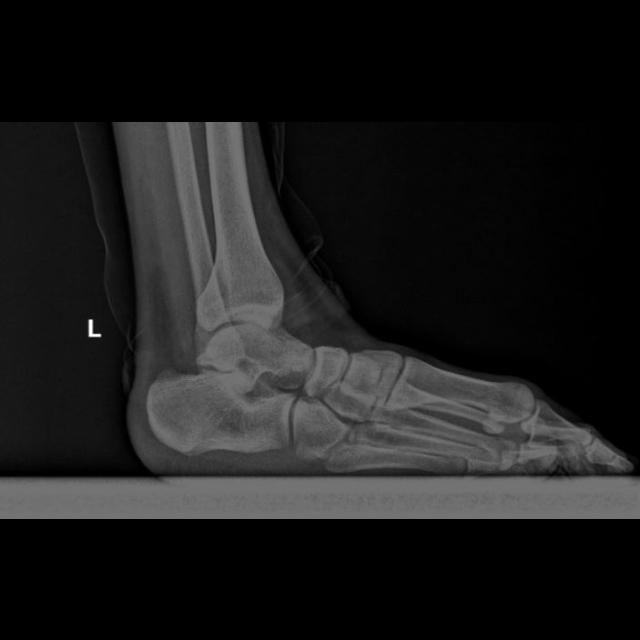a: (149, 365, 296, 453)
b: (304, 344, 349, 395)
c: (387, 355, 533, 420)
